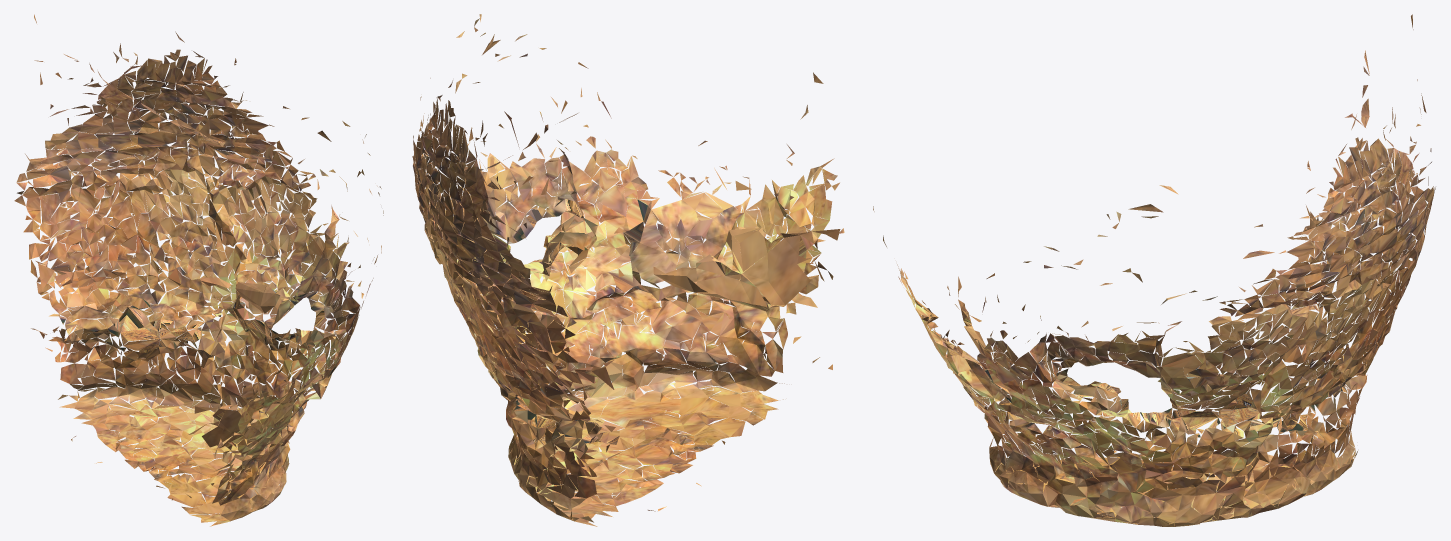
The model's file is beaker-rightdown.obj.
3 views of the same model, side by side, from view 1: azimuth 30°, elevation 25°; view 2: azimuth 150°, elevation 25°; view 3: azimuth 270°, elevation 25° (orthographic). The views are drawn at different scales.
Visible parts, largest first — view 1: _09:Mesh.001__09:Mesh.005; view 2: _09:Mesh.001__09:Mesh.005; view 3: _09:Mesh.001__09:Mesh.005.
Boxes of the visible parts, <box> form: _09:Mesh.001__09:Mesh.005: <box>14,14,383,526</box>; _09:Mesh.001__09:Mesh.005: <box>412,14,844,526</box>; _09:Mesh.001__09:Mesh.005: <box>873,14,1435,526</box>.
Bounding box in the file's own units: 8.46 × 12.33 × 14.12.
Materials: 16 (16 with a texture image).
